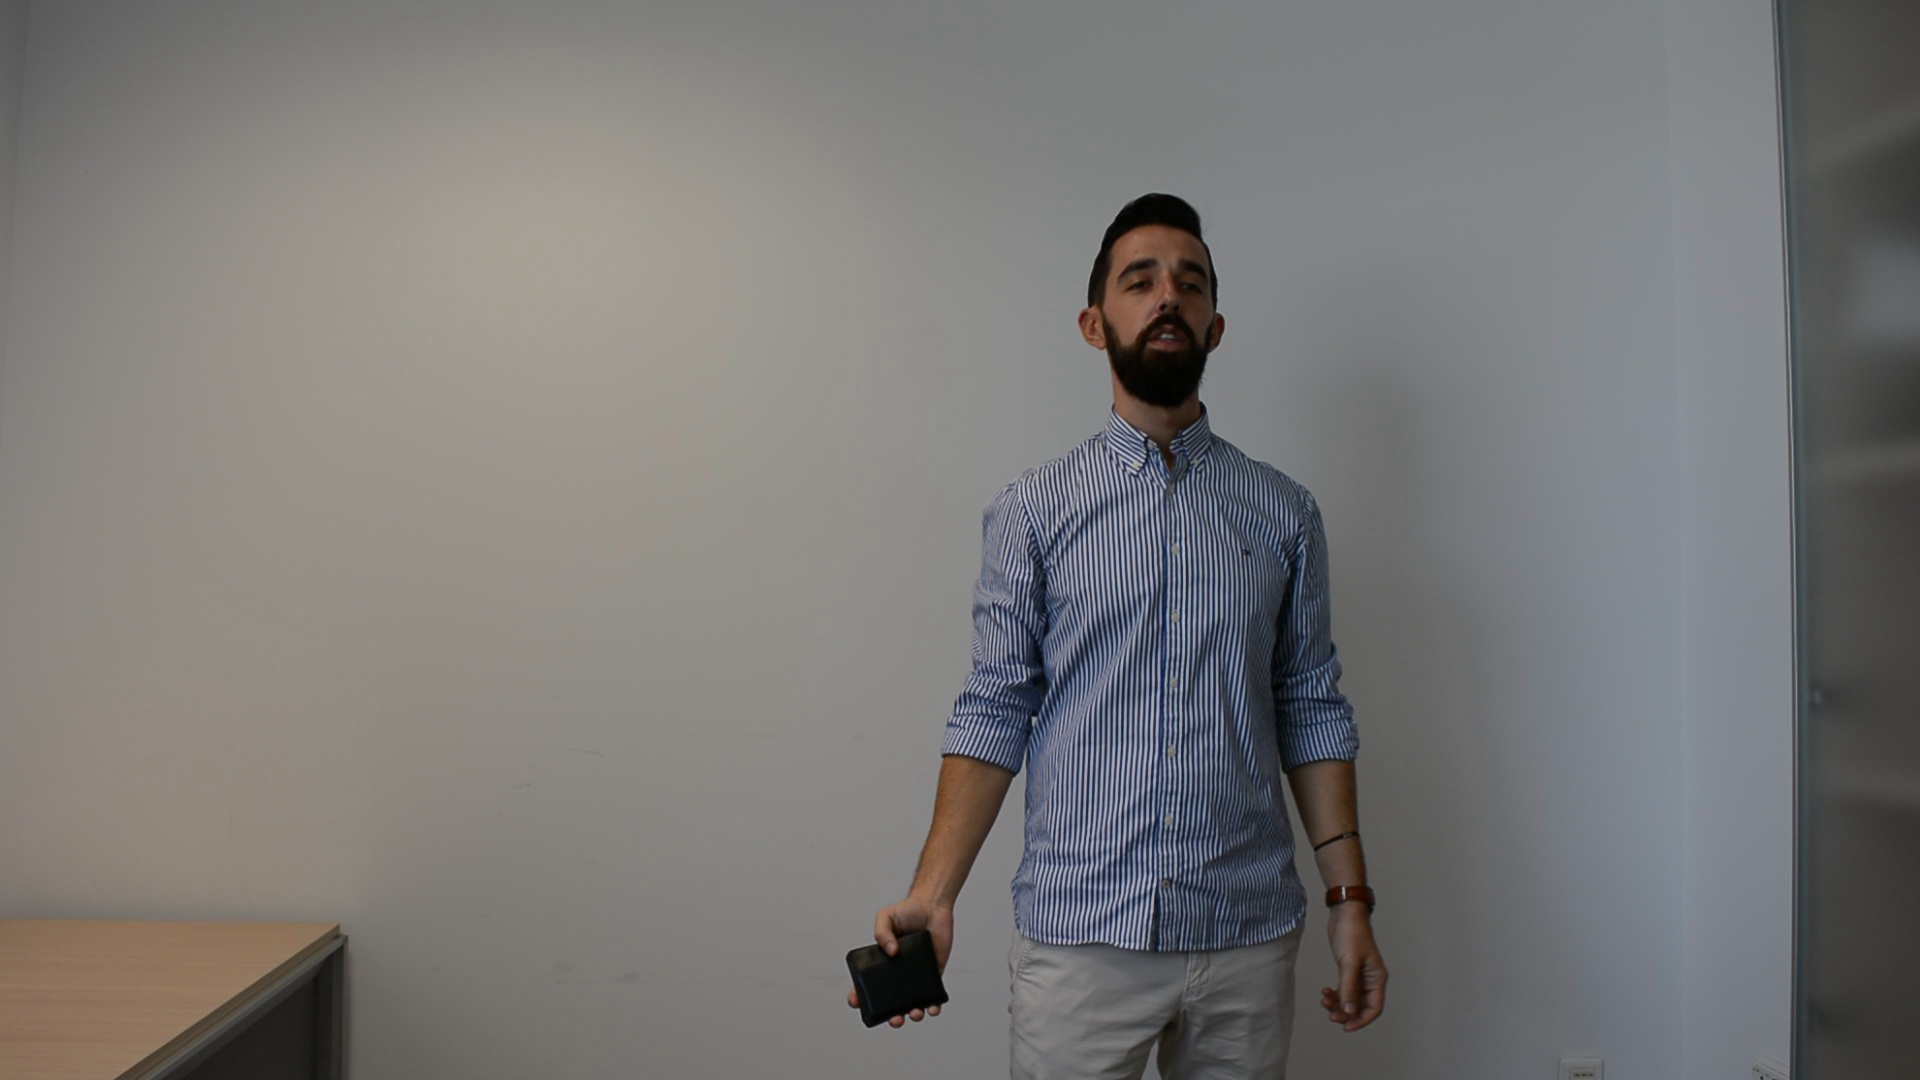monedero: (844, 924, 951, 1030)
